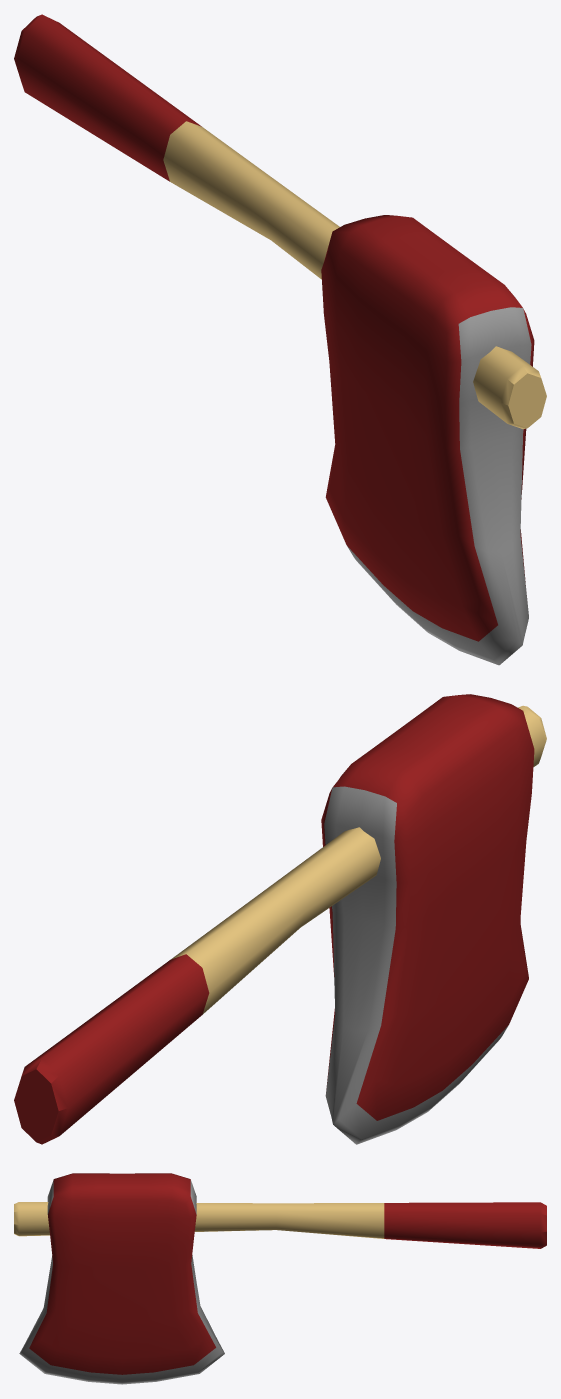
Rendered from axe.fbx.
The picture shows the model from 3 angles, top to bottom: view 1: azimuth 30°, elevation 25°; view 2: azimuth 150°, elevation 25°; view 3: azimuth 270°, elevation 25°; orthographic projection. The views are drawn at different scales.
Visible parts, largest first — view 1: Axe; view 2: Axe; view 3: Axe.
Part boxes in pixels (<box>): Axe: <box>14,14,546,665</box>; Axe: <box>14,694,546,1144</box>; Axe: <box>14,1173,546,1384</box>.
Size of the model in its own units: 0.3978 by 1.52 by 3.57.
